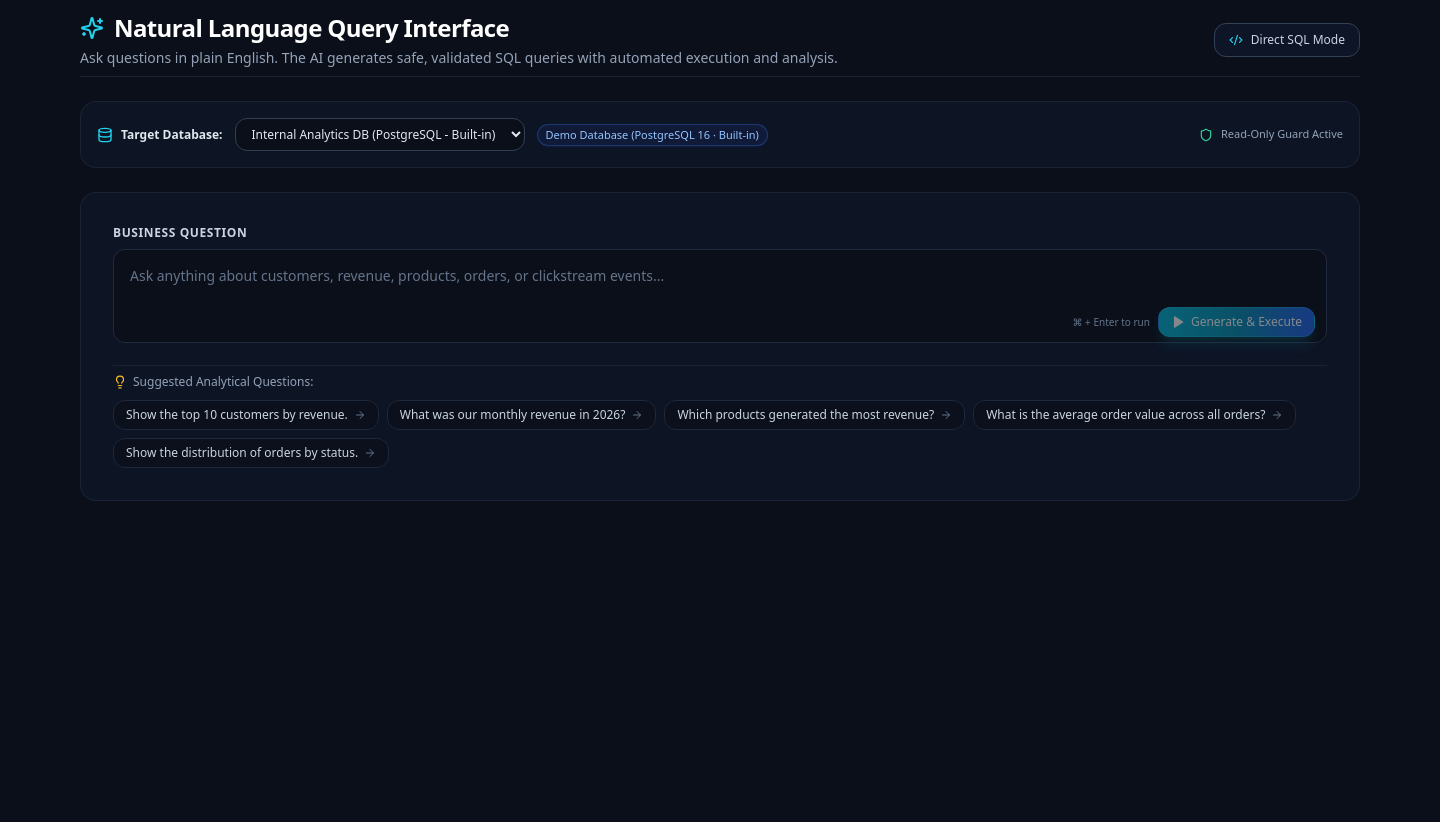
Test: QueryView Component › populates textarea when an example query is clicked
This screenshot has width=1440, height=822.
What coordinates should you click on to do the following:
click the button "Show the top 10 customers by revenue."
I would click on:
 (246, 415)
Its box is [113,400,379,430].
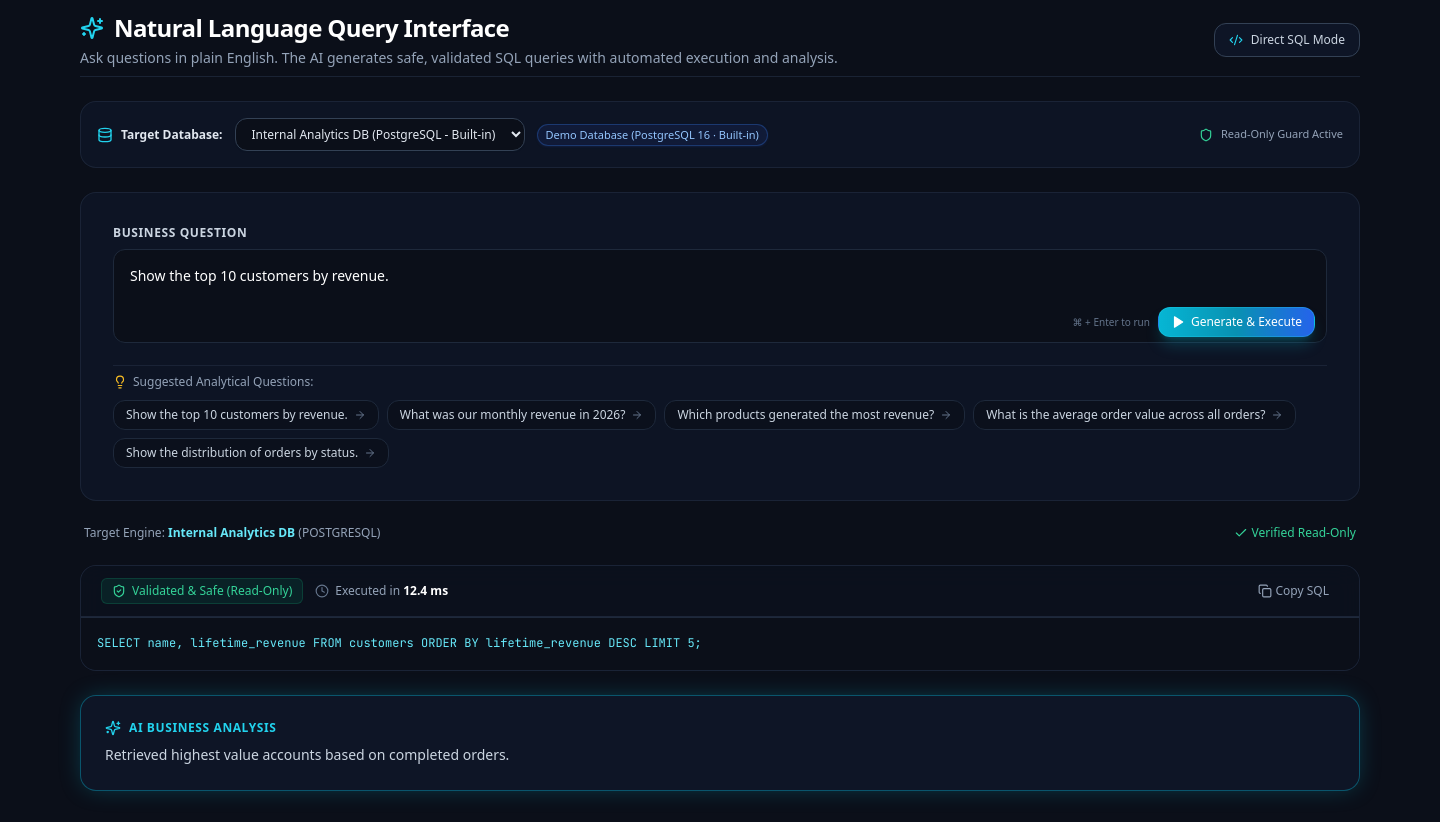
Result: the text box with placeholder "Ask anything about customers" holds "Show the top 10 customers by revenue." at [113,249,1327,343]
